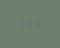five: (33, 19, 39, 27)
one: (18, 20, 24, 28)
two: (26, 20, 32, 27)
